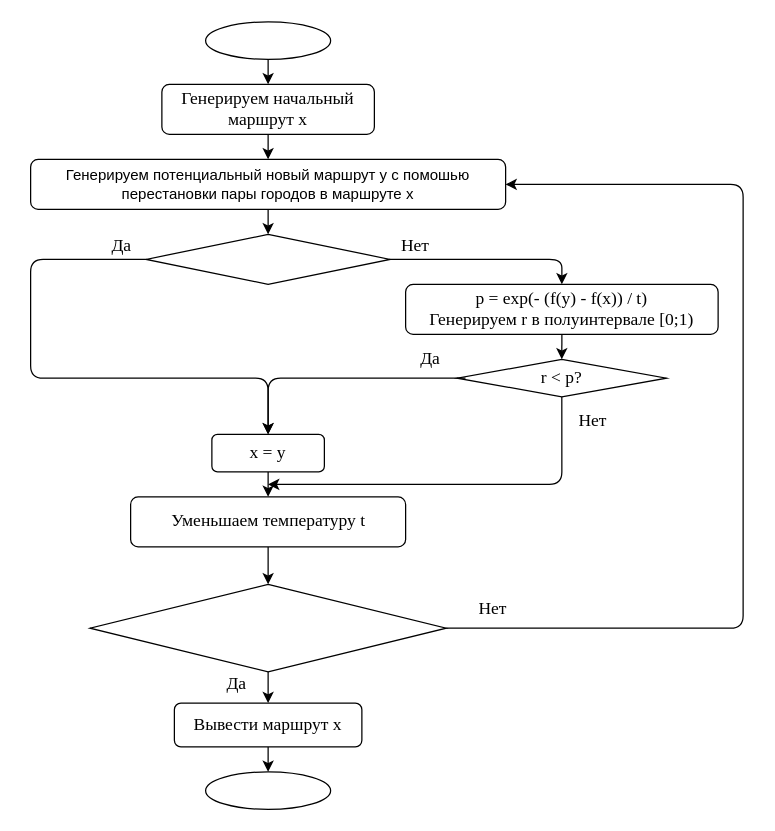
The diagram is 775 pixels wide and 831 high, and some of its shapes have lost their labels. The shapes that lost their labels are listed below. From the top down, each one's centre as x and y in pixels, then its label:
At point (267, 40): "Начало".
At point (267, 258): "y лучше, чем x?".
At point (267, 627): "Выполняется условие выхода из цикла?".
At point (267, 790): "Конец".
